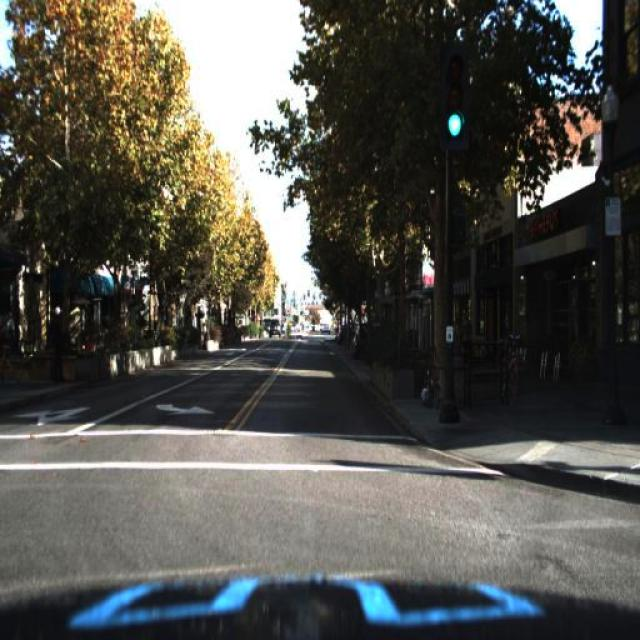semaforo: (438, 42, 471, 152)
